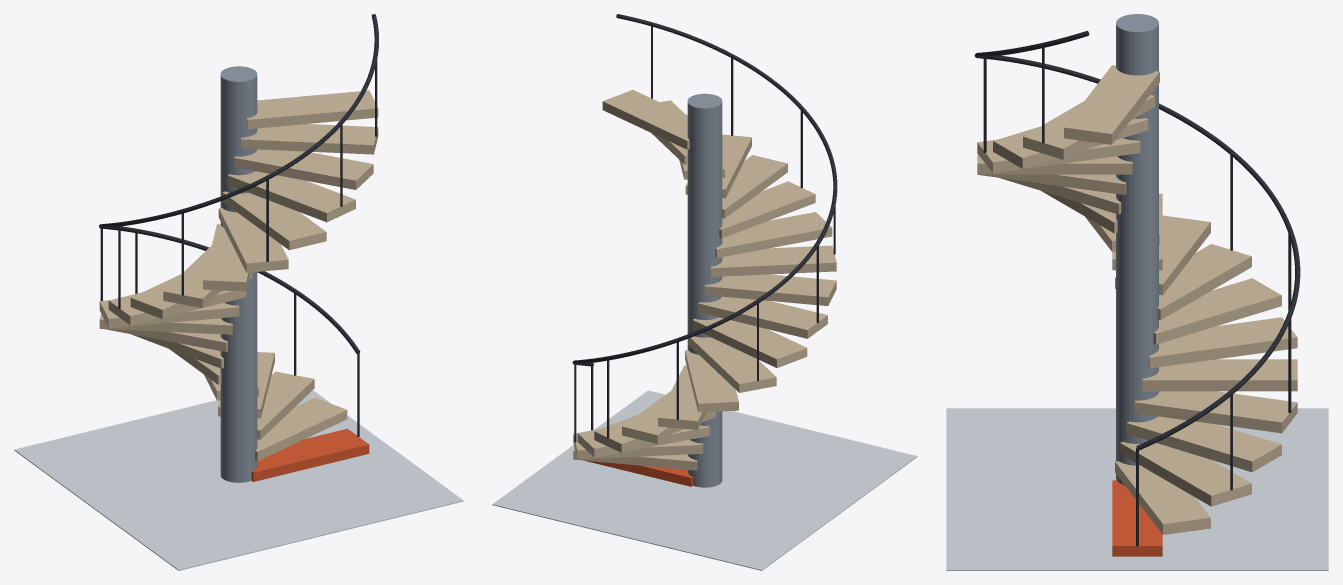
The model's file is ish03.glb.
The picture shows the model from 3 angles, left to right: view 1: azimuth 30°, elevation 25°; view 2: azimuth 150°, elevation 25°; view 3: azimuth 270°, elevation 25°; orthographic projection. The views are drawn at different scales.
Parts seen in each view (by area): view 1: Pol, Ustun, Pogona_20, Pogona_18, Pogona_19, Pogona_17, Pogona_01, Panjara, Pogona_16, Pogona_02, Pogona_15, Pogona_14 (+9 smaller); view 2: Pol, Ustun, Panjara, Pogona_12, Pogona_11, Pogona_13, Pogona_14, Pogona_10, Pogona_20, Pogona_15, Pogona_09, Pogona_08 (+9 smaller); view 3: Pol, Ustun, Pogona_05, Pogona_06, Pogona_04, Pogona_07, Pogona_20, Panjara, Pogona_03, Pogona_08, Pogona_02, Pogona_09 (+9 smaller).
Part boxes in pixels (left/top/right/bottom): Pol: left=14, top=390, right=463, bottom=570; Ustun: left=220, top=66, right=257, bottom=482; Pogona_20: left=246, top=90, right=378, bottom=129; Pogona_18: left=234, top=149, right=373, bottom=189; Pogona_19: left=241, top=124, right=378, bottom=154; Pogona_17: left=227, top=171, right=355, bottom=222; Pogona_01: left=251, top=428, right=369, bottom=481; Panjara: left=99, top=14, right=378, bottom=353; Pogona_16: left=222, top=191, right=326, bottom=250; Pogona_02: left=255, top=397, right=347, bottom=460; Pogona_15: left=218, top=208, right=288, bottom=272; Pogona_14: left=203, top=224, right=250, bottom=291; Pol: left=492, top=390, right=917, bottom=570; Ustun: left=687, top=93, right=722, bottom=487; Panjara: left=572, top=14, right=837, bottom=366; Pogona_12: left=704, top=274, right=836, bottom=305; Pogona_11: left=698, top=296, right=827, bottom=338; Pogona_13: left=710, top=245, right=836, bottom=276; Pogona_14: left=715, top=212, right=832, bottom=257; Pogona_10: left=692, top=317, right=807, bottom=367; Pogona_20: left=602, top=90, right=689, bottom=149; Pogona_15: left=719, top=181, right=815, bottom=238; Pogona_09: left=688, top=336, right=776, bottom=392; Pogona_08: left=685, top=350, right=738, bottom=412; Pol: left=946, top=408, right=1328, bottom=570; Ustun: left=1116, top=14, right=1158, bottom=485; Pogona_05: left=1134, top=391, right=1297, bottom=433; Pogona_06: left=1142, top=359, right=1297, bottom=391; Pogona_04: left=1126, top=416, right=1281, bottom=472; Pogona_07: left=1148, top=317, right=1297, bottom=368; Pogona_20: left=1064, top=65, right=1159, bottom=144; Panjara: left=974, top=31, right=1300, bottom=450; Pogona_03: left=1120, top=441, right=1251, bottom=506; Pogona_08: left=1153, top=278, right=1281, bottom=344; Pogona_02: left=1115, top=461, right=1210, bottom=534; Pogona_09: left=1157, top=244, right=1251, bottom=319.
Bounding box in the file's own units: 3.2 × 4.83 × 3.2.
